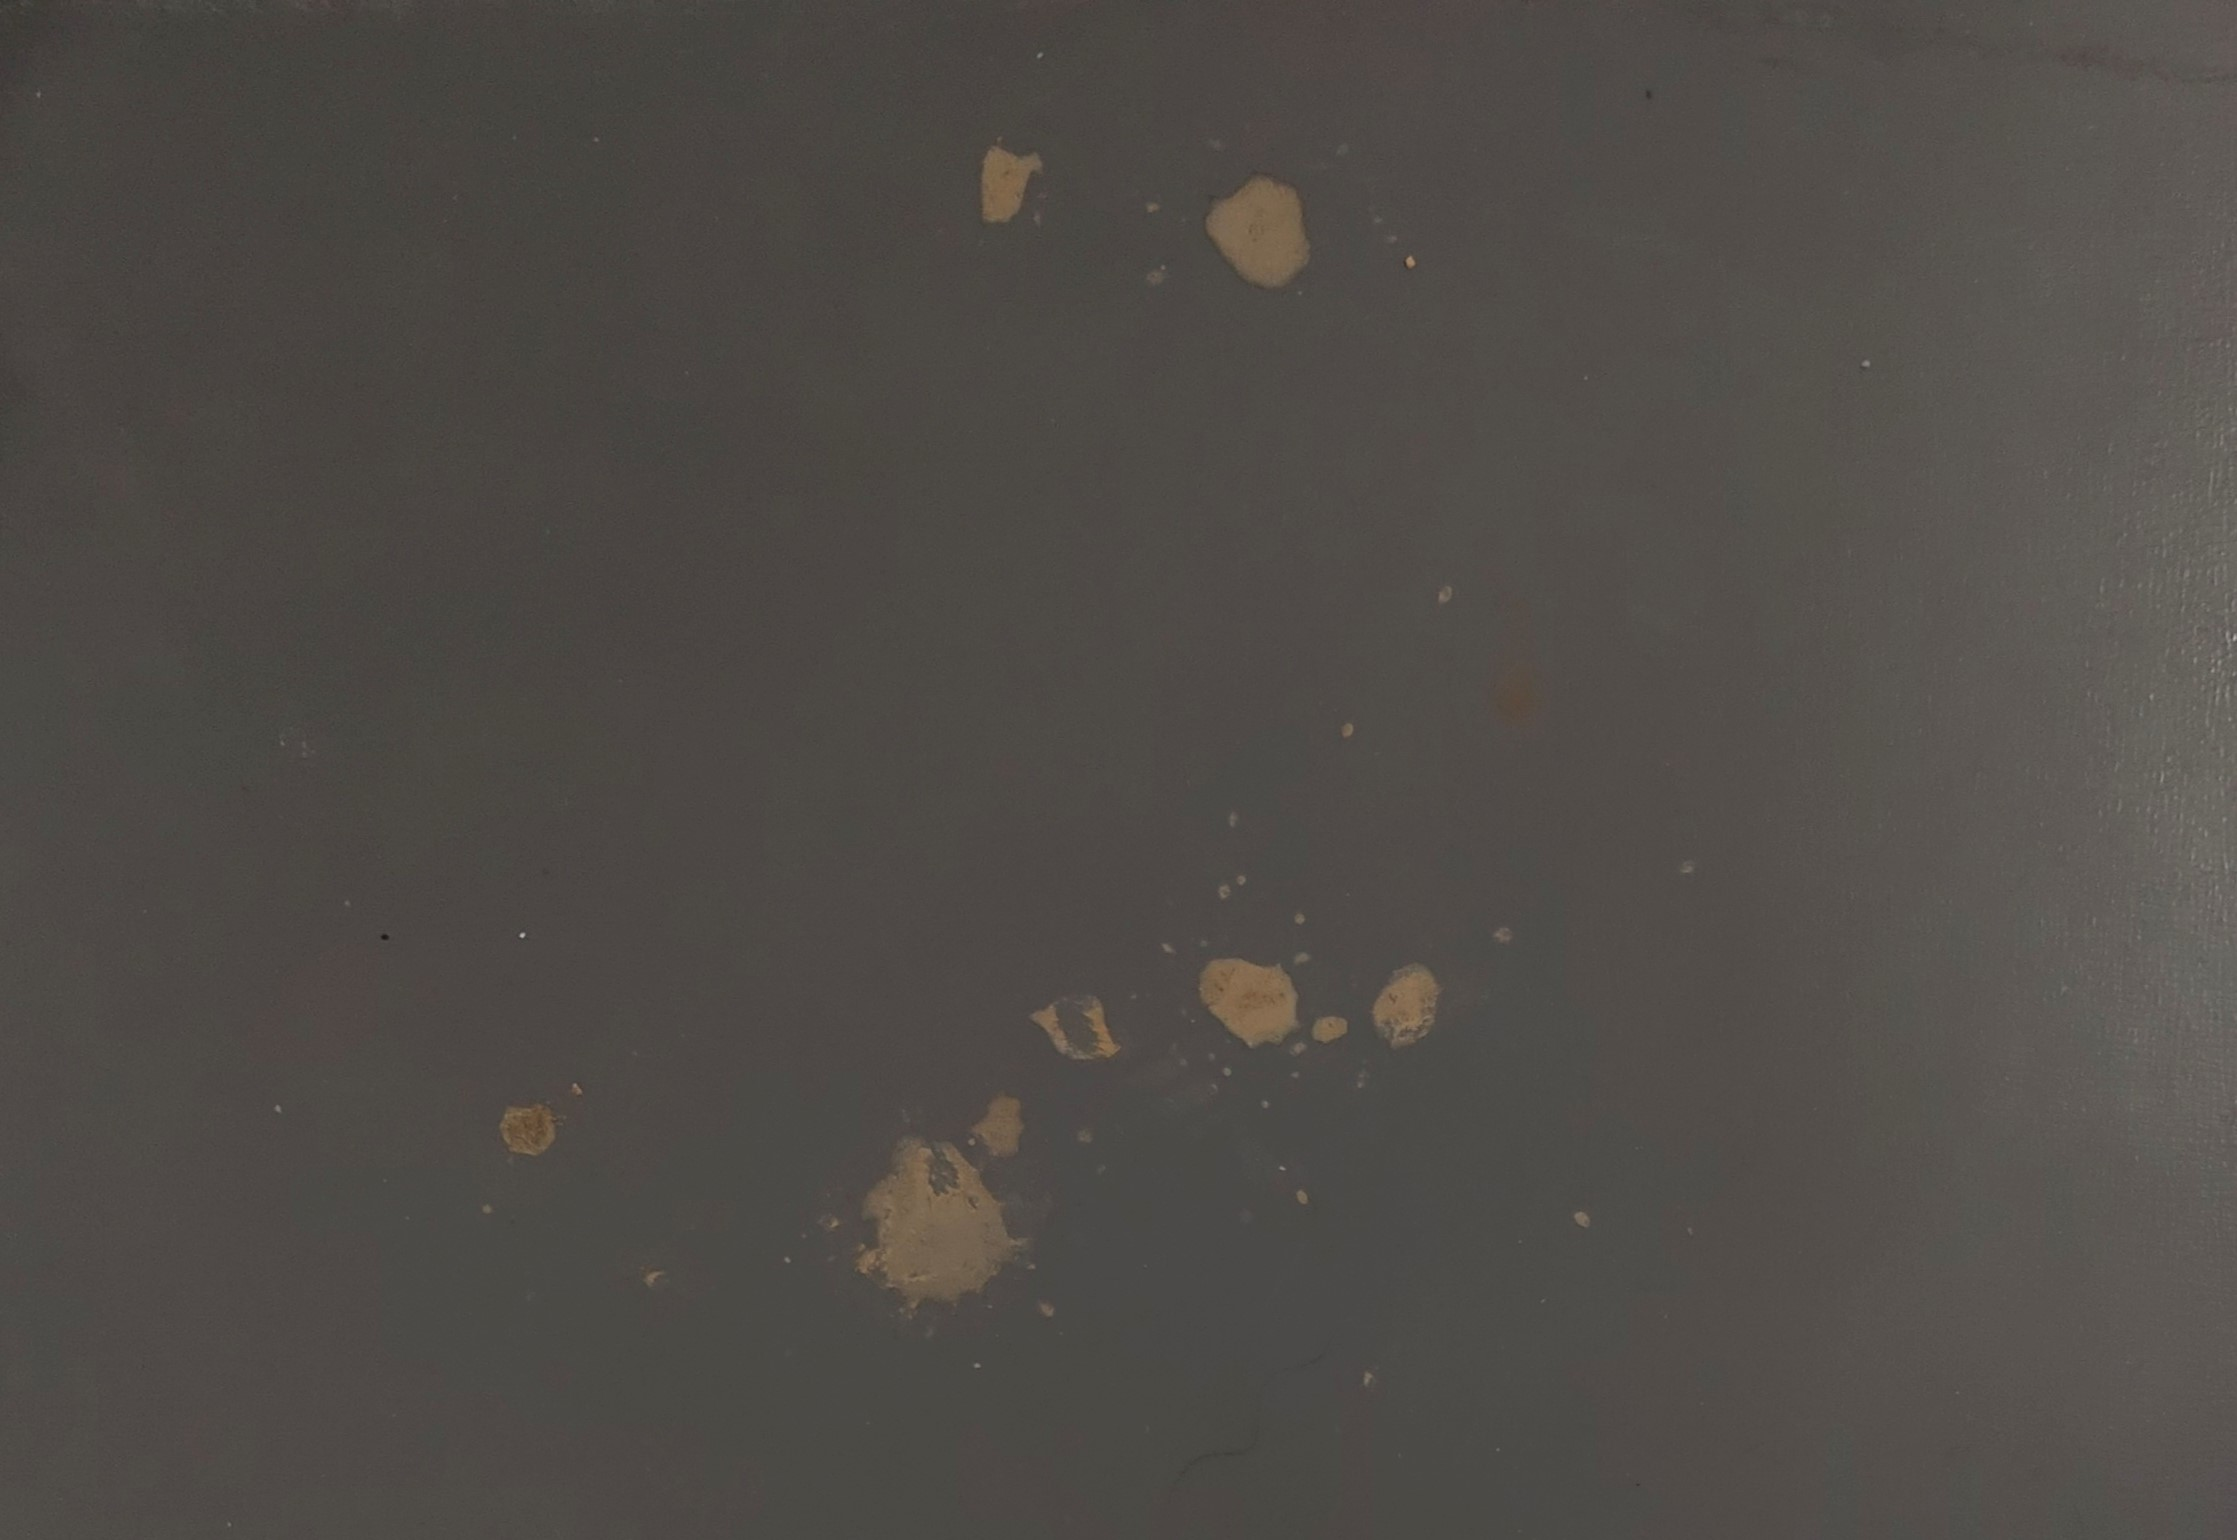grey spot: (858, 1137, 1025, 1300), (1205, 178, 1311, 287), (1202, 957, 1297, 1042), (1032, 994, 1118, 1057), (1372, 964, 1436, 1045), (981, 146, 1044, 223), (498, 1101, 558, 1156), (971, 1095, 1023, 1152), (1312, 1016, 1348, 1044)
